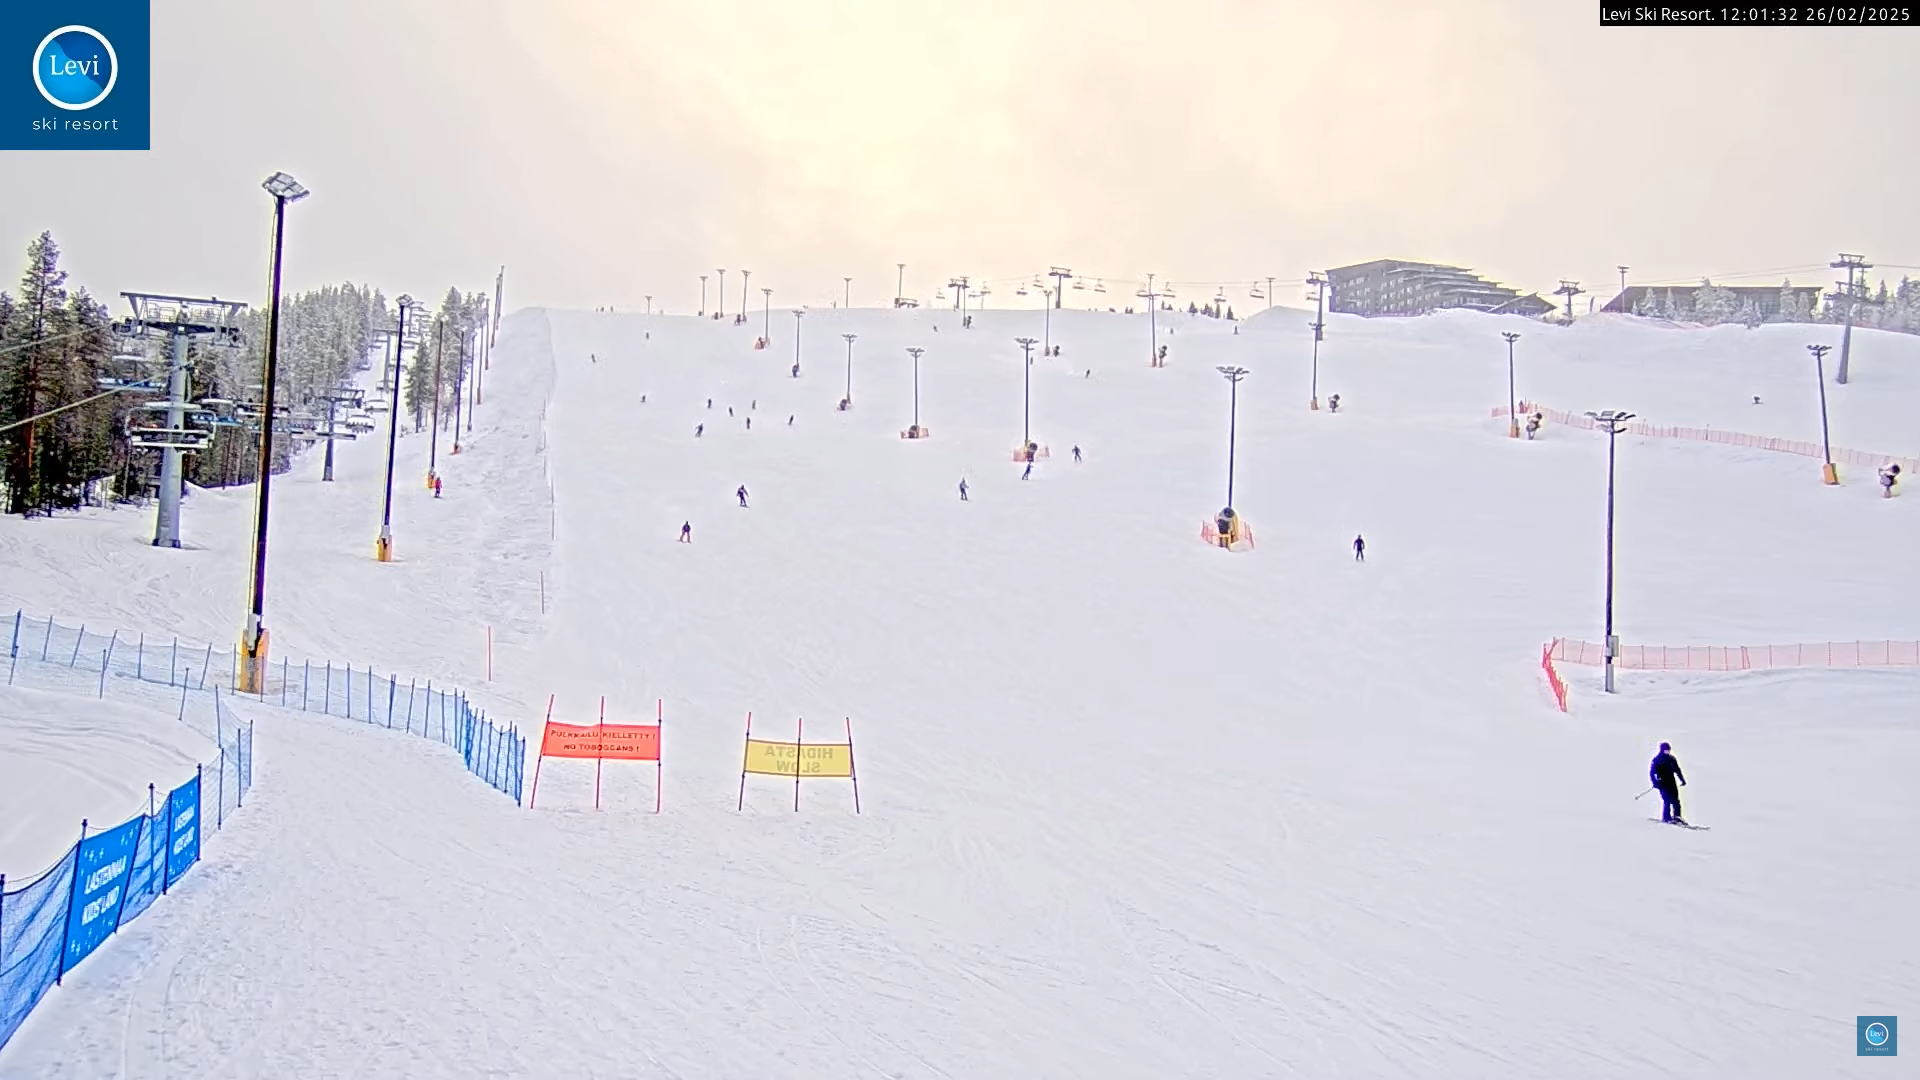skier: (1630, 736, 1710, 837)
